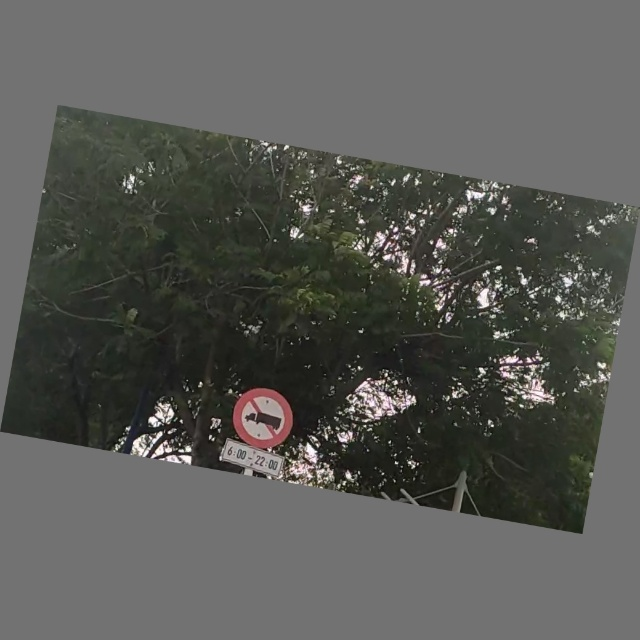B.8a: (222, 386, 295, 474)
